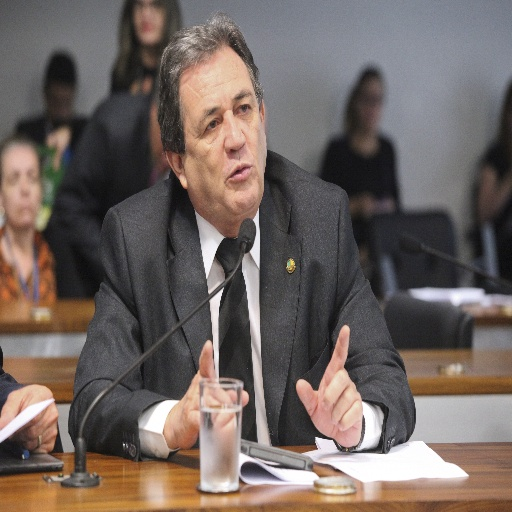hand: (170, 337, 249, 452), (292, 360, 365, 455), (0, 383, 59, 455), (45, 122, 70, 173)
